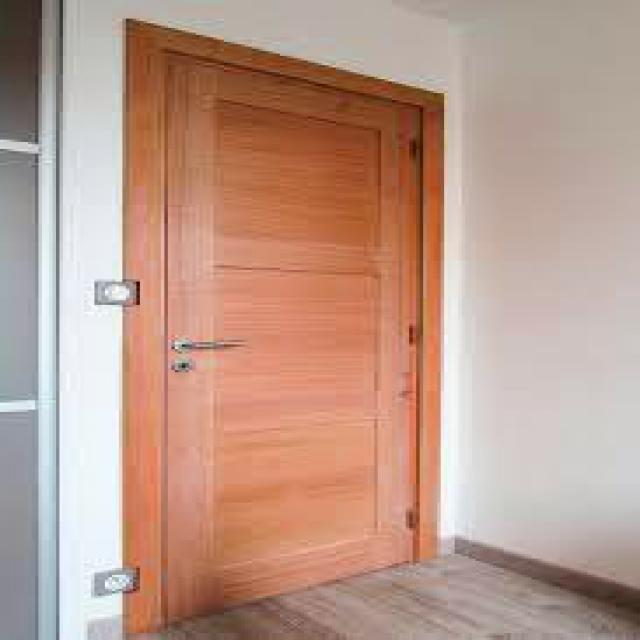door: (122, 18, 440, 634)
